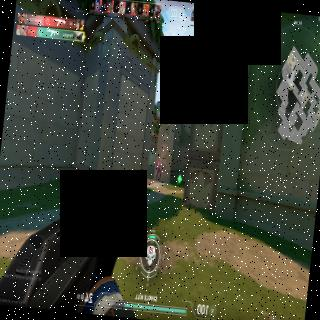ENEMY-BODY: (154, 157, 162, 182)
ENEMY-HEAD: (158, 158, 160, 162)
